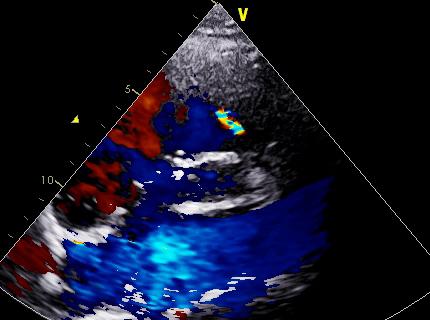TR: (111, 144, 186, 240)
